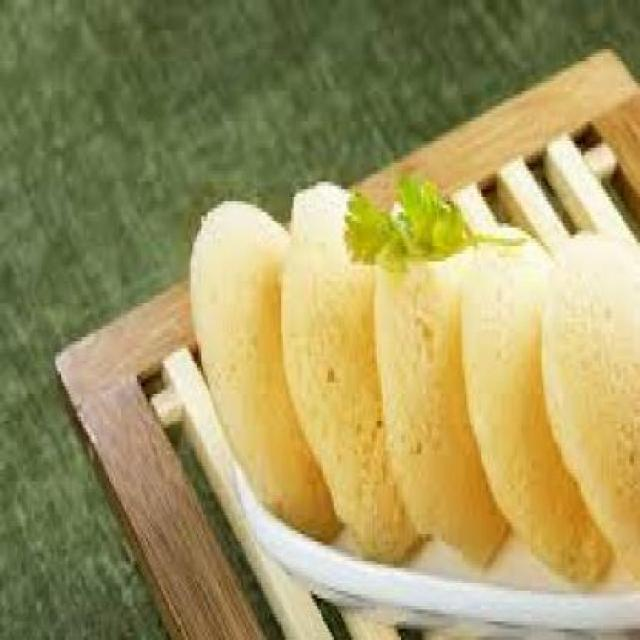idli: (462, 226, 612, 586), (280, 183, 418, 562), (190, 202, 342, 543), (375, 185, 508, 568), (541, 230, 640, 589)
